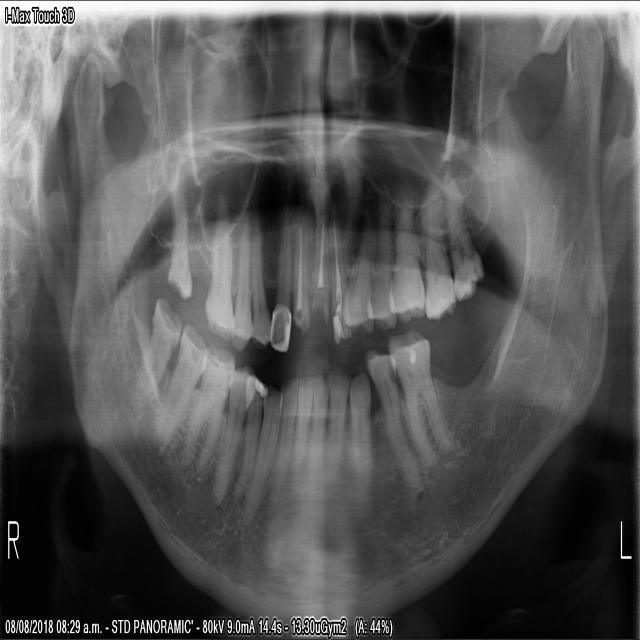LCD: (348, 368, 372, 487)
LID: (325, 369, 350, 504), (308, 369, 327, 500)
LMD: (386, 325, 461, 470)
LMU: (442, 162, 484, 303), (419, 181, 456, 322), (393, 192, 424, 325)
LPMD: (362, 343, 421, 489)
LPMU: (341, 220, 375, 336), (372, 177, 395, 331)
RCD: (233, 377, 279, 528)
RID: (263, 372, 298, 506), (286, 370, 310, 496)
RIU: (267, 202, 292, 353)
RMD: (177, 340, 234, 480), (124, 291, 183, 418), (151, 319, 205, 451)
RMU: (200, 202, 233, 343), (163, 169, 192, 302)
RPMD: (208, 361, 255, 509)
RPMU: (227, 207, 249, 352), (248, 205, 269, 351)
